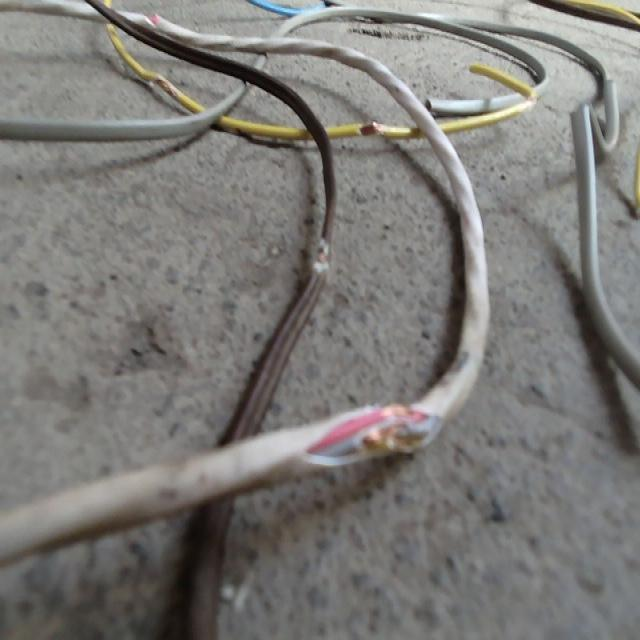-: (306, 400, 436, 463), (151, 74, 177, 98), (313, 239, 328, 273), (357, 119, 384, 136)
